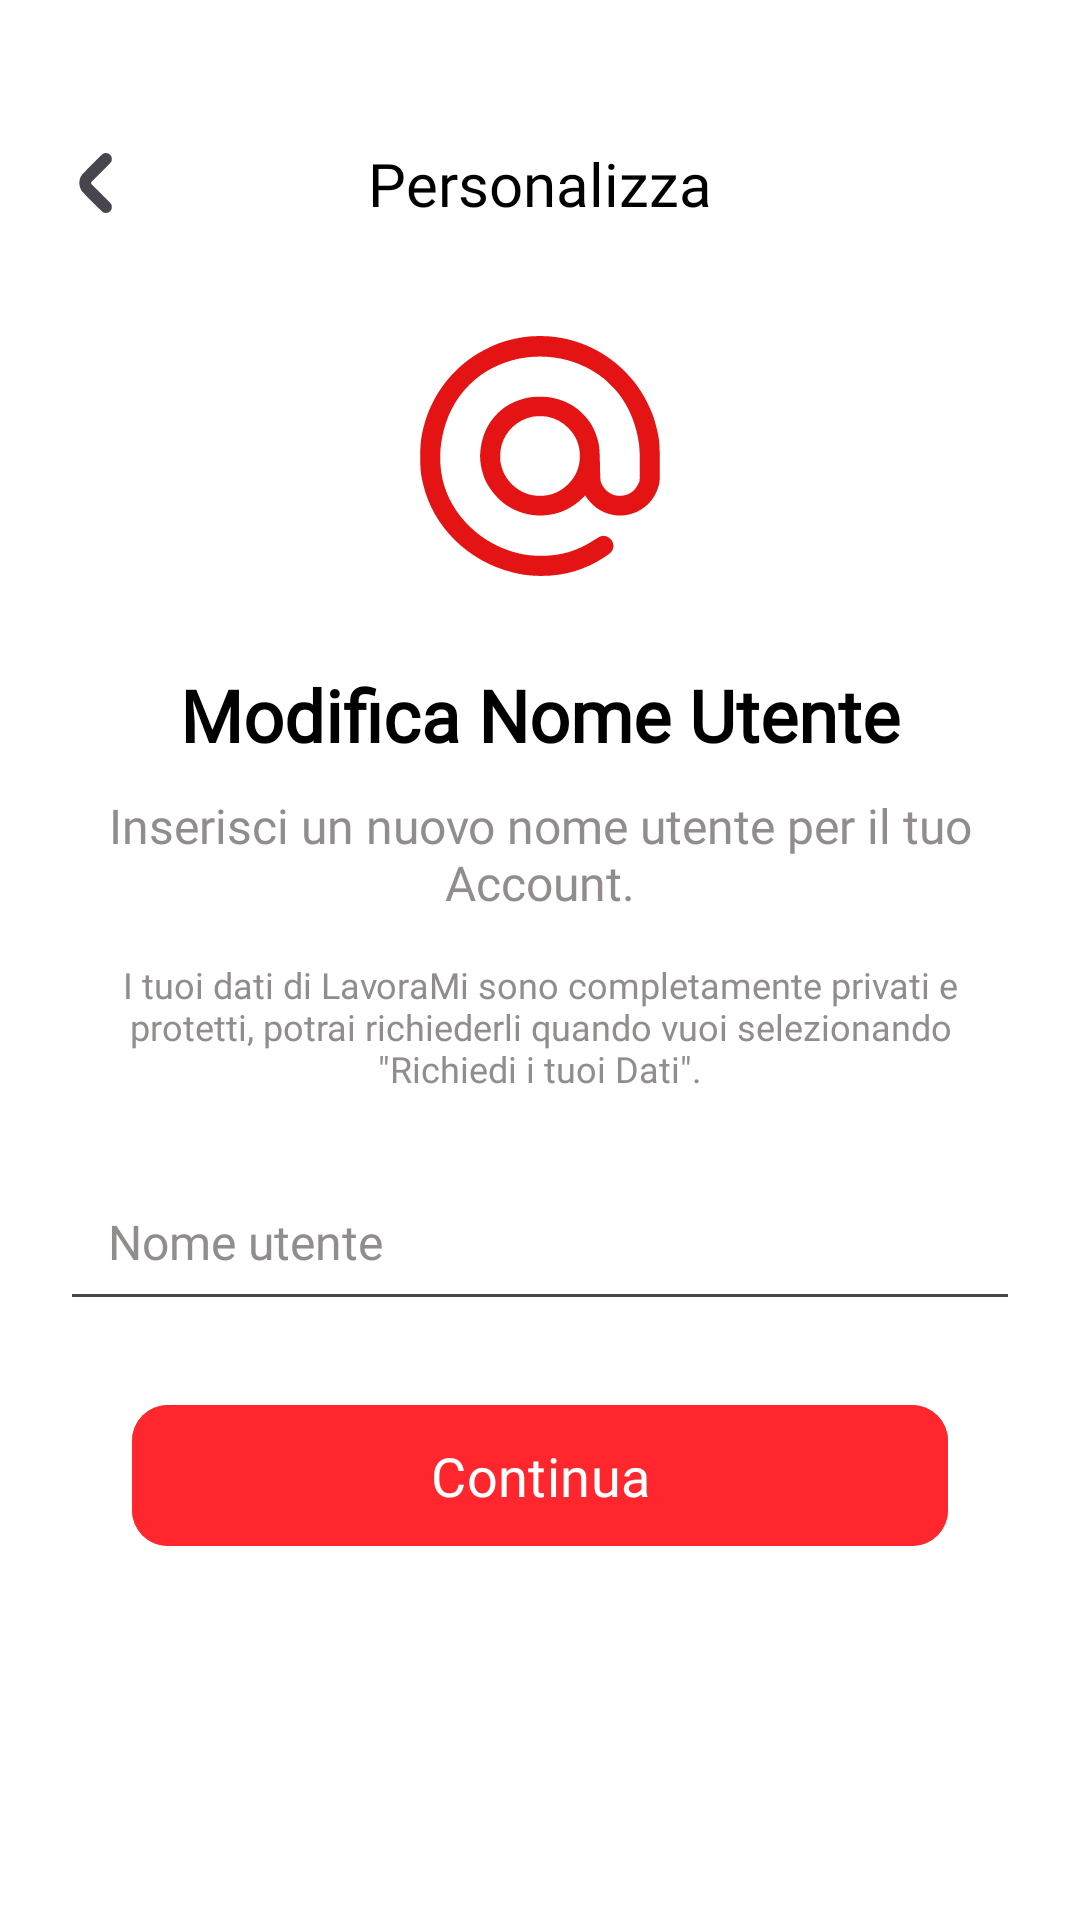

Screen size 1080 × 1920. Icon name, then its box in pixels as BBox(x1, y1, x2, y2):
back: BBox(79, 153, 112, 213)
